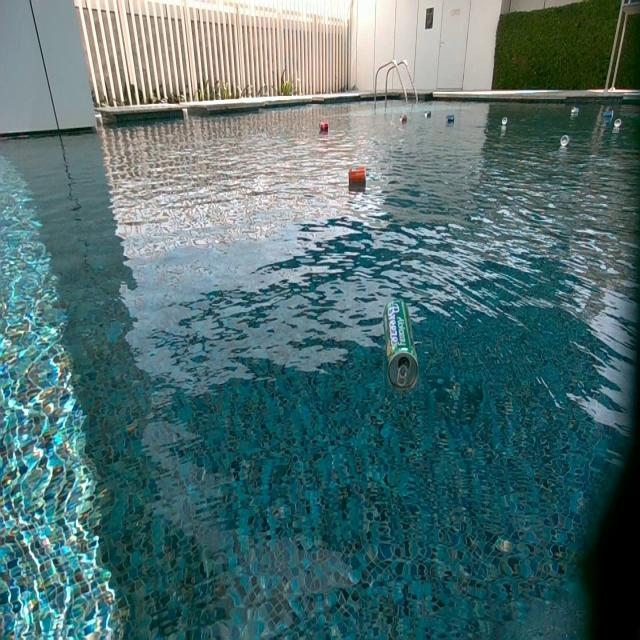Cans: (382, 299, 418, 397), (348, 167, 366, 185), (568, 106, 580, 118), (560, 135, 570, 148), (614, 117, 624, 128), (446, 114, 456, 124), (319, 120, 328, 131), (399, 113, 407, 123), (423, 111, 432, 119), (500, 120, 508, 127)
